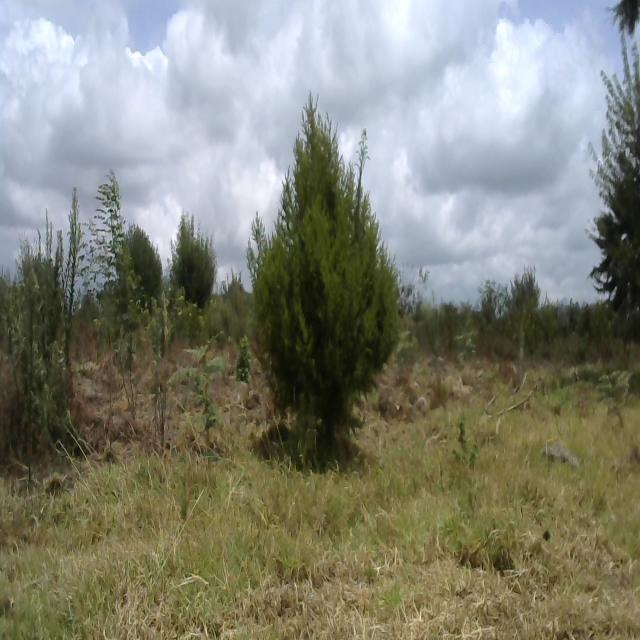Juniperus procesera: (248, 91, 428, 471), (164, 137, 222, 338), (111, 183, 160, 340)
